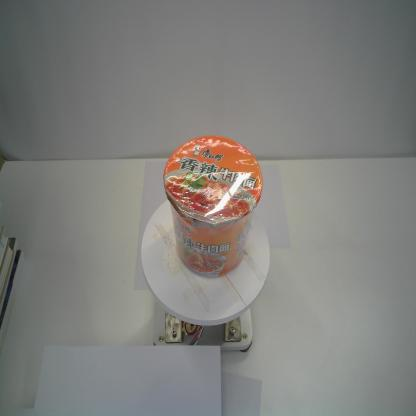Instant Noodles: (162, 135, 263, 280)
